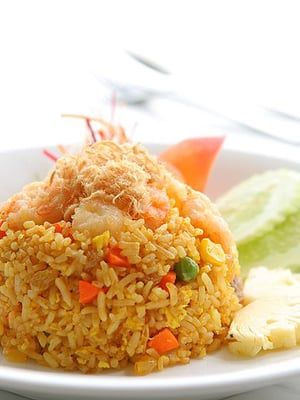pizza: (146, 328, 180, 355), (78, 281, 100, 305)
